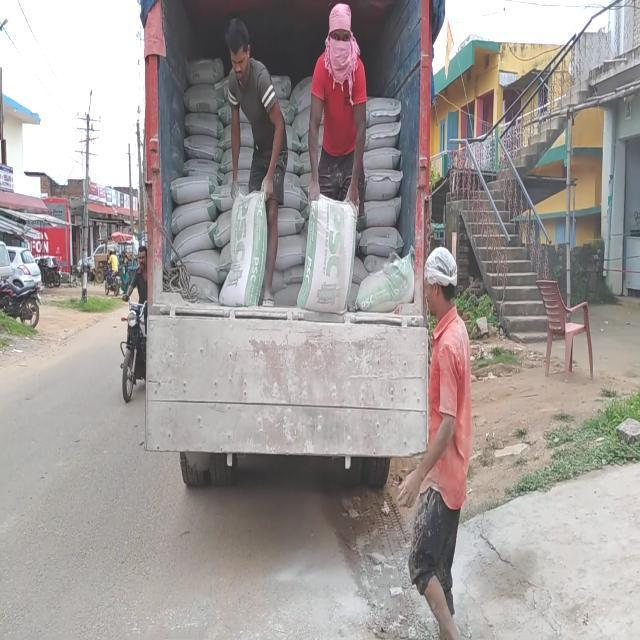gunny_bag: (298, 194, 357, 312), (219, 190, 267, 305), (357, 245, 415, 311), (171, 197, 216, 234), (173, 220, 215, 257), (182, 248, 225, 284), (357, 196, 402, 230), (358, 225, 404, 257), (170, 174, 217, 204), (365, 168, 403, 200), (275, 232, 307, 270), (183, 83, 224, 112), (184, 133, 223, 162), (366, 96, 402, 126), (365, 121, 402, 150), (183, 157, 224, 183), (186, 56, 224, 83), (185, 111, 223, 137), (364, 146, 402, 169), (278, 207, 305, 236)
